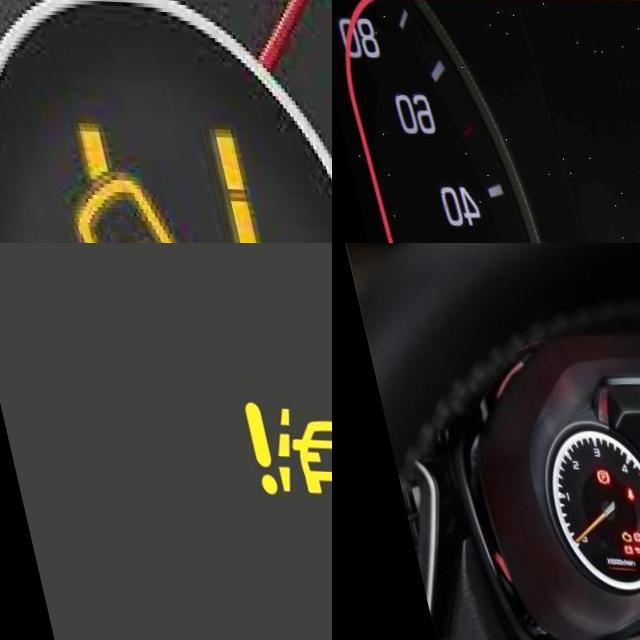Seat Belt: (611, 484, 622, 500)
